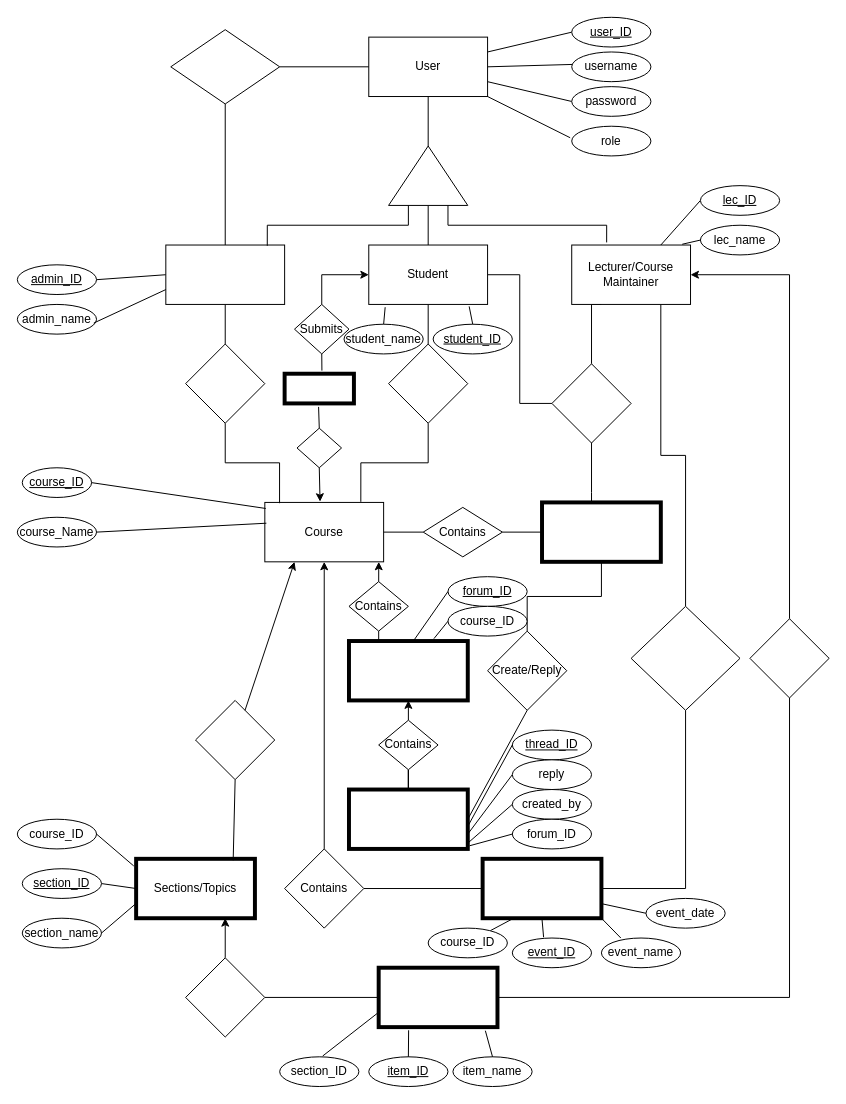
Image size: 846x1104. Some labels were removed from this diagram. The shapes that lost their labels are listed below. From the top down, each one's box as (x1, y1, x2, y2) in pixels, then its label:
(170, 29, 280, 104): Create Account for
(388, 145, 468, 205): ISA
(165, 244, 285, 304): Admin
(185, 343, 265, 423): Creates
(282, 371, 355, 405): Assignment
(388, 343, 468, 423): Assigned To
(551, 363, 631, 443): Consist of
(296, 427, 342, 468): grades
(540, 500, 662, 563): Course Members
(346, 639, 469, 702): Discussion Forum
(630, 605, 740, 710): Create/Remove /Update
(749, 618, 829, 698): CRUD
(195, 699, 275, 780): Includes
(346, 787, 469, 850): Discussion Thread
(480, 856, 603, 920): Calender Events
(185, 957, 265, 1037): Consists of
(376, 965, 499, 1029): Section Items
